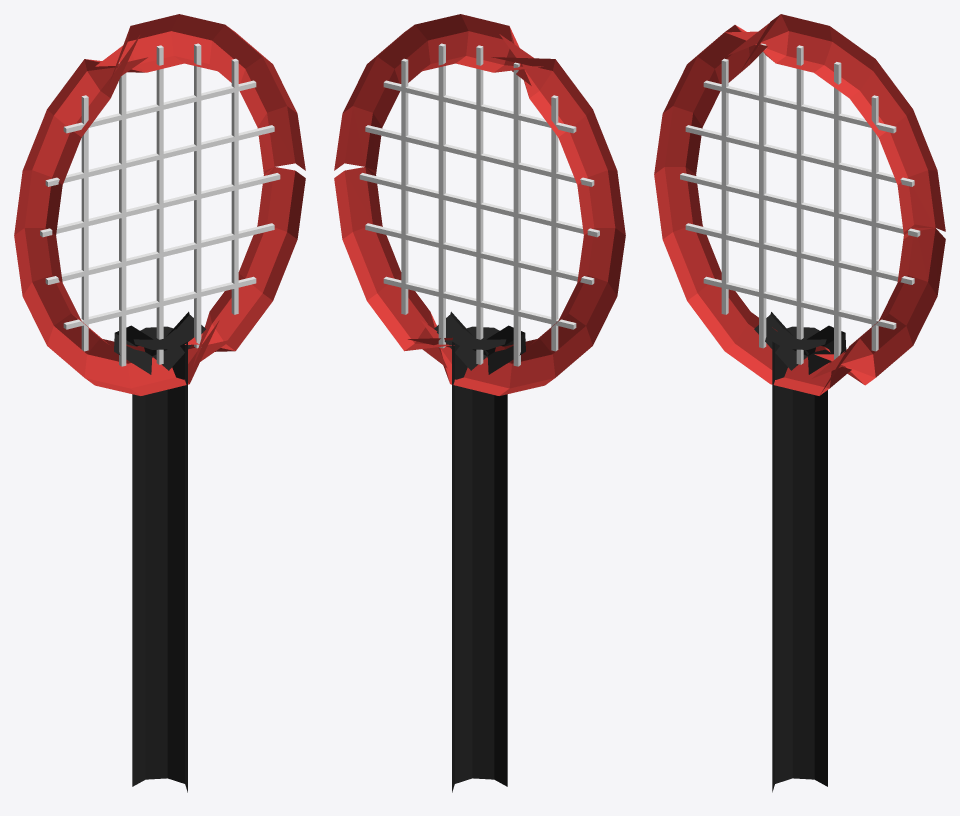
The model's file is badmintonracket.glb.
3 views of the same model, side by side, from view 1: azimuth 30°, elevation 25°; view 2: azimuth 150°, elevation 25°; view 3: azimuth 330°, elevation 25° (orthographic).
Visible parts, largest first — view 1: badmintonracket; view 2: badmintonracket; view 3: badmintonracket.
Boxes of the visible parts, left/top/right/bottom form: badmintonracket: left=14, top=14, right=305, bottom=792; badmintonracket: left=334, top=14, right=625, bottom=792; badmintonracket: left=654, top=14, right=945, bottom=792.
Size of the model in its own units: 0.2475 by 0.6445 by 0.044.
